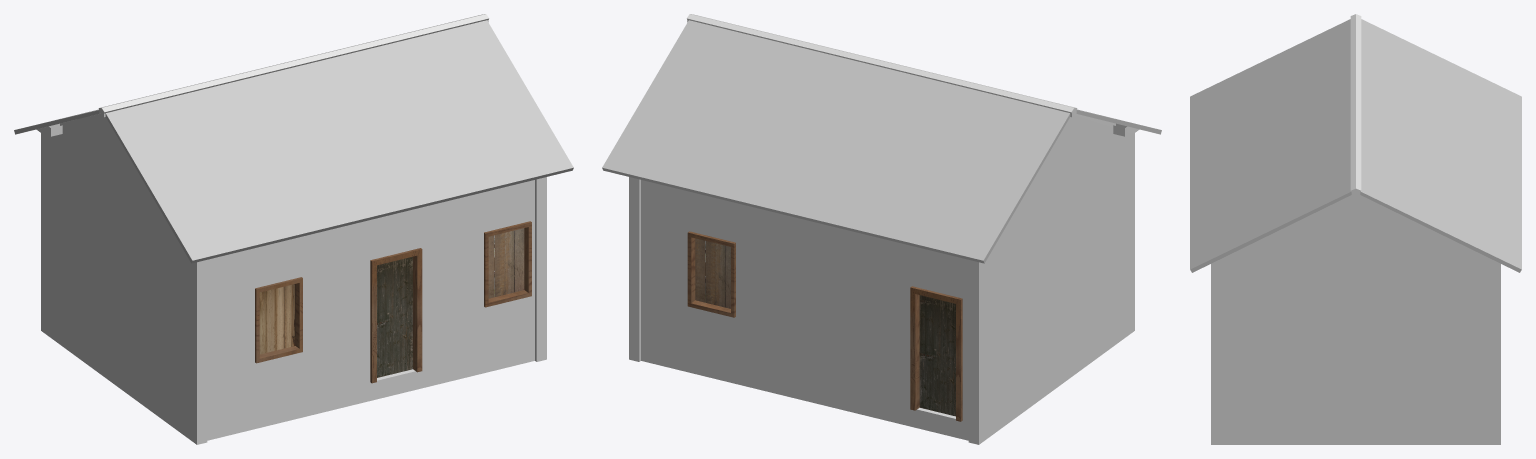
File: casaPortoCimento_1-modelo2.fbx
The picture shows the model from 3 angles, left to right: view 1: azimuth 30°, elevation 25°; view 2: azimuth 150°, elevation 25°; view 3: azimuth 270°, elevation 25°; orthographic projection. The views are drawn at different scales.
Parts seen in each view (by area): view 1: casa1_LOD0, telhado; view 2: casa1_LOD0, telhado; view 3: casa1_LOD0, telhado.
Part boxes in pixels (x1,y1,x2,y2): casa1_LOD0: [36, 14, 546, 444]; telhado: [14, 20, 573, 263]; casa1_LOD0: [629, 14, 1139, 444]; telhado: [602, 20, 1161, 263]; casa1_LOD0: [1211, 14, 1500, 444]; telhado: [1190, 19, 1521, 272].
Size of what is drawn, in the model's own units: 660 by 466 by 530.
